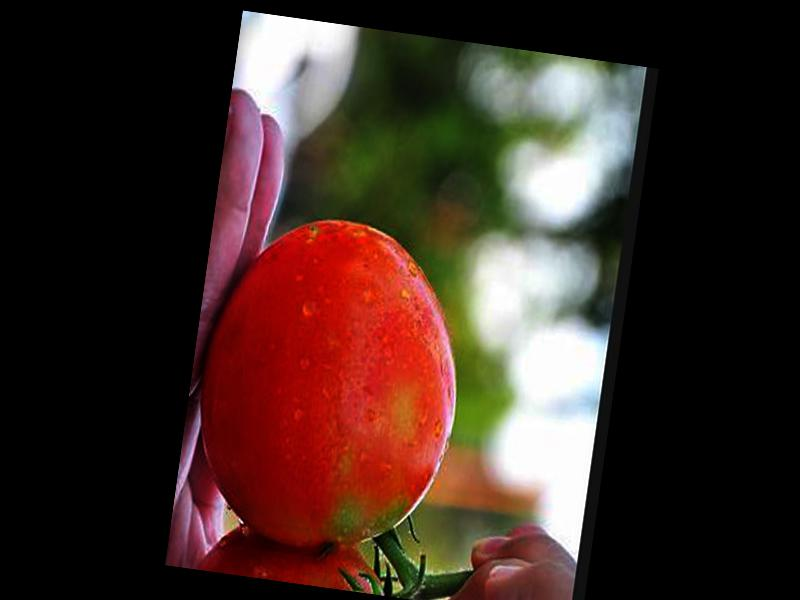Tomato: (183, 205, 479, 562)
